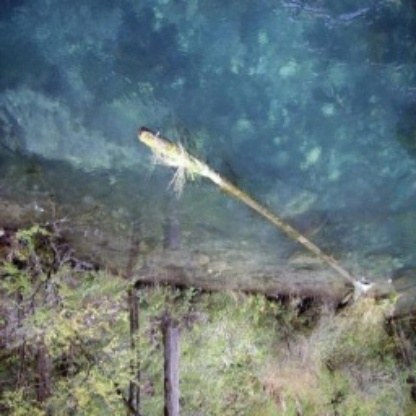branch: (140, 124, 372, 287)
